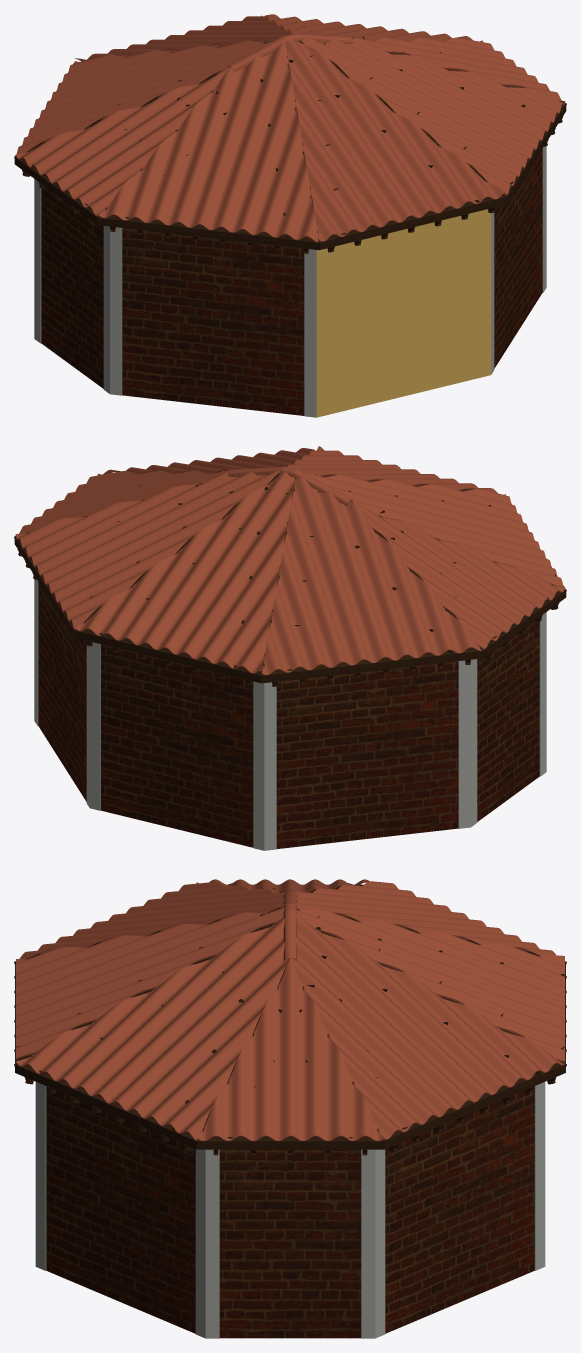
The model's file is building.glb.
The picture shows the model from 3 angles, top to bottom: view 1: azimuth 30°, elevation 25°; view 2: azimuth 150°, elevation 25°; view 3: azimuth 270°, elevation 25°; orthographic projection. The views are drawn at different scales.
Parts seen in each view (by area): view 1: house:0/edge0/z0/house:0/edge0/z0/wall_0_0, house:0/edge1/z0/house:0/edge1/z0/wall_0_0, house:0/edge7/z0/house:0/edge7/z0/wall_0_0, house:0/edge2/z0/house:0/edge2/z0/wall_0_0, house:0/edge0/z0/house:0/edge0/z0/column_1_0, house:0/edge0/z0/house:0/edge0/z0/column_0_0, roof_assembly/cubierta/roof_fascia#0006, roof_assembly/cubierta/roof_fascia#0009, house:0/edge7/z0/house:0/edge7/z0/column_0_0, house:0/edge7/z0/house:0/edge7/z0/column_1_0, roof_assembly/cubierta/roof_fascia#0001, house:0/edge2/z0/house:0/edge2/z0/column_1_0 (+2 smaller); view 2: house:0/edge6/z0/house:0/edge6/z0/wall_0_0, house:0/edge5/z0/house:0/edge5/z0/wall_0_0, house:0/edge7/z0/house:0/edge7/z0/wall_0_0, house:0/edge4/z0/house:0/edge4/z0/wall_0_0, house:0/edge6/z0/house:0/edge6/z0/column_0_0, house:0/edge6/z0/house:0/edge6/z0/column_1_0, house:0/edge5/z0/house:0/edge5/z0/column_1_0, house:0/edge5/z0/house:0/edge5/z0/column_0_0, roof_assembly/cubierta/roof_fascia#0024, roof_assembly/cubierta/roof_fascia#0021, house:0/edge7/z0/house:0/edge7/z0/column_1_0, house:0/edge7/z0/house:0/edge7/z0/column_0_0 (+4 smaller); view 3: house:0/edge2/z0/house:0/edge2/z0/wall_0_0, house:0/edge4/z0/house:0/edge4/z0/wall_0_0, house:0/edge3/z0/house:0/edge3/z0/wall_0_0, house:0/edge3/z0/house:0/edge3/z0/column_0_0, house:0/edge3/z0/house:0/edge3/z0/column_1_0, house:0/edge2/z0/house:0/edge2/z0/column_0_0, house:0/edge4/z0/house:0/edge4/z0/column_1_0, house:0/edge2/z0/house:0/edge2/z0/column_1_0, house:0/edge4/z0/house:0/edge4/z0/column_0_0, roof_assembly/cubierta/roof_fascia#0015, roof_assembly/cubierta/roof_fascia#0012, roof_assembly/cubierta/roof_fascia#0018.
Part boxes in pixels (x1=…): house:0/edge0/z0/house:0/edge0/z0/wall_0_0: x1=122, y1=228, x2=304, y2=415; house:0/edge1/z0/house:0/edge1/z0/wall_0_0: x1=316, y1=209, x2=491, y2=417; house:0/edge7/z0/house:0/edge7/z0/wall_0_0: x1=41, y1=188, x2=103, y2=388; house:0/edge2/z0/house:0/edge2/z0/wall_0_0: x1=494, y1=149, x2=542, y2=368; house:0/edge0/z0/house:0/edge0/z0/column_1_0: x1=304, y1=249, x2=316, y2=417; house:0/edge0/z0/house:0/edge0/z0/column_0_0: x1=110, y1=227, x2=122, y2=395; roof_assembly/cubierta/roof_fascia#0006: x1=98, y1=217, x2=318, y2=250; roof_assembly/cubierta/roof_fascia#0009: x1=319, y1=197, x2=506, y2=249; house:0/edge7/z0/house:0/edge7/z0/column_0_0: x1=34, y1=179, x2=41, y2=343; house:0/edge7/z0/house:0/edge7/z0/column_1_0: x1=103, y1=226, x2=109, y2=393; roof_assembly/cubierta/roof_fascia#0001: x1=14, y1=157, x2=98, y2=224; house:0/edge2/z0/house:0/edge2/z0/column_1_0: x1=542, y1=146, x2=546, y2=292; house:0/edge6/z0/house:0/edge6/z0/wall_0_0: x1=276, y1=661, x2=458, y2=848; house:0/edge5/z0/house:0/edge5/z0/wall_0_0: x1=101, y1=644, x2=253, y2=847; house:0/edge7/z0/house:0/edge7/z0/wall_0_0: x1=477, y1=621, x2=539, y2=821; house:0/edge4/z0/house:0/edge4/z0/wall_0_0: x1=38, y1=582, x2=86, y2=801; house:0/edge6/z0/house:0/edge6/z0/column_0_0: x1=264, y1=682, x2=276, y2=850; house:0/edge6/z0/house:0/edge6/z0/column_1_0: x1=458, y1=660, x2=470, y2=828; house:0/edge5/z0/house:0/edge5/z0/column_1_0: x1=253, y1=681, x2=264, y2=850; house:0/edge5/z0/house:0/edge5/z0/column_0_0: x1=89, y1=642, x2=100, y2=810; roof_assembly/cubierta/roof_fascia#0024: x1=262, y1=651, x2=482, y2=683; roof_assembly/cubierta/roof_fascia#0021: x1=74, y1=630, x2=261, y2=683; house:0/edge7/z0/house:0/edge7/z0/column_1_0: x1=539, y1=612, x2=546, y2=776; house:0/edge7/z0/house:0/edge7/z0/column_0_0: x1=471, y1=659, x2=477, y2=826; house:0/edge2/z0/house:0/edge2/z0/wall_0_0: x1=46, y1=1086, x2=195, y2=1333; house:0/edge4/z0/house:0/edge4/z0/wall_0_0: x1=385, y1=1086, x2=534, y2=1333; house:0/edge3/z0/house:0/edge3/z0/wall_0_0: x1=219, y1=1149, x2=361, y2=1338; house:0/edge3/z0/house:0/edge3/z0/column_0_0: x1=205, y1=1149, x2=219, y2=1338; house:0/edge3/z0/house:0/edge3/z0/column_1_0: x1=361, y1=1149, x2=375, y2=1338; house:0/edge2/z0/house:0/edge2/z0/column_0_0: x1=35, y1=1082, x2=46, y2=1270; house:0/edge4/z0/house:0/edge4/z0/column_1_0: x1=534, y1=1082, x2=545, y2=1270; house:0/edge2/z0/house:0/edge2/z0/column_1_0: x1=195, y1=1149, x2=205, y2=1338; house:0/edge4/z0/house:0/edge4/z0/column_0_0: x1=375, y1=1149, x2=385, y2=1338; roof_assembly/cubierta/roof_fascia#0015: x1=197, y1=1140, x2=383, y2=1149; roof_assembly/cubierta/roof_fascia#0012: x1=15, y1=1064, x2=197, y2=1149; roof_assembly/cubierta/roof_fascia#0018: x1=383, y1=1065, x2=565, y2=1149.
Bounding box in the file's own units: 10.77 × 6.08 × 9.77.
5 materials, 2 textured.
